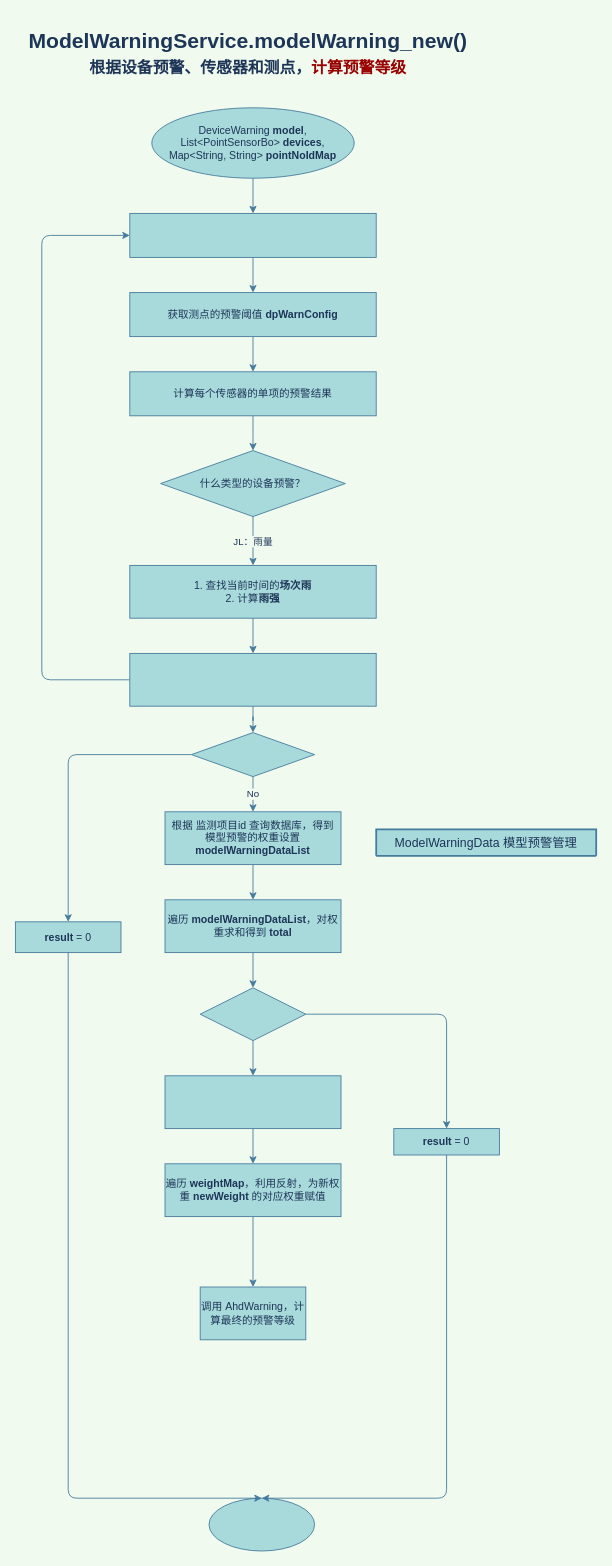
The diagram is 612 pixels wide and 1566 high, and some of its shapes have lost their labels. Here are the shapes that lost their labels. From the top down, the centre of each, then its label:
At (252,235): "for (PointSensorBo device : devices )".
At (252,679): "调用 warningResult_new 方法， 单项 模型预警计算，得到 finalResult ， results. add( finalResult )".
At (253,754): "result.size = 0?".
At (252,1014): "total <= 0 ?".
At (252,1102): "遍历 modelWarningDataList ，创建权重Map weightMap".
At (261,1524): "return result".
